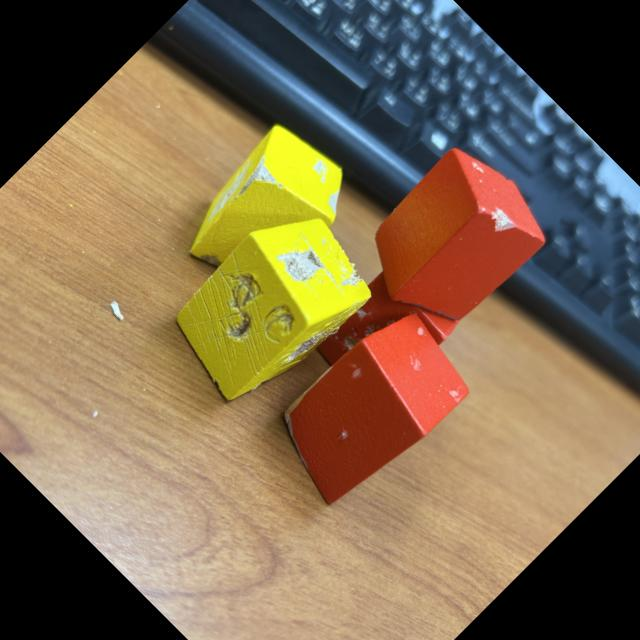broken: (153, 190, 384, 422), (258, 295, 482, 520), (344, 134, 560, 348), (165, 112, 368, 316), (307, 254, 464, 411)
